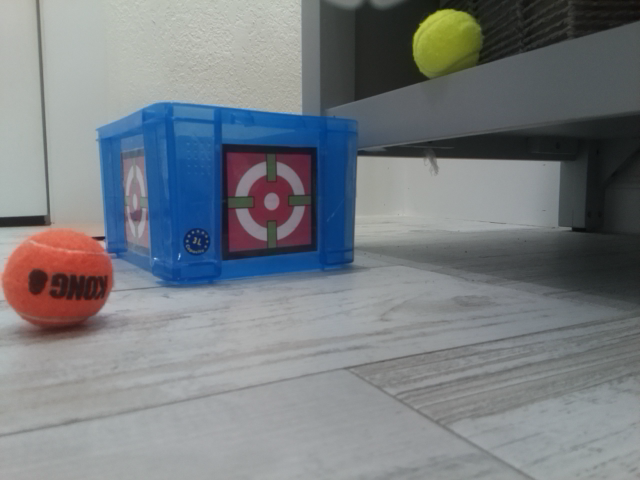drop-bin: (219, 144, 318, 261)
orange-ball: (2, 229, 115, 331)
yellow-ball: (410, 7, 484, 80)
